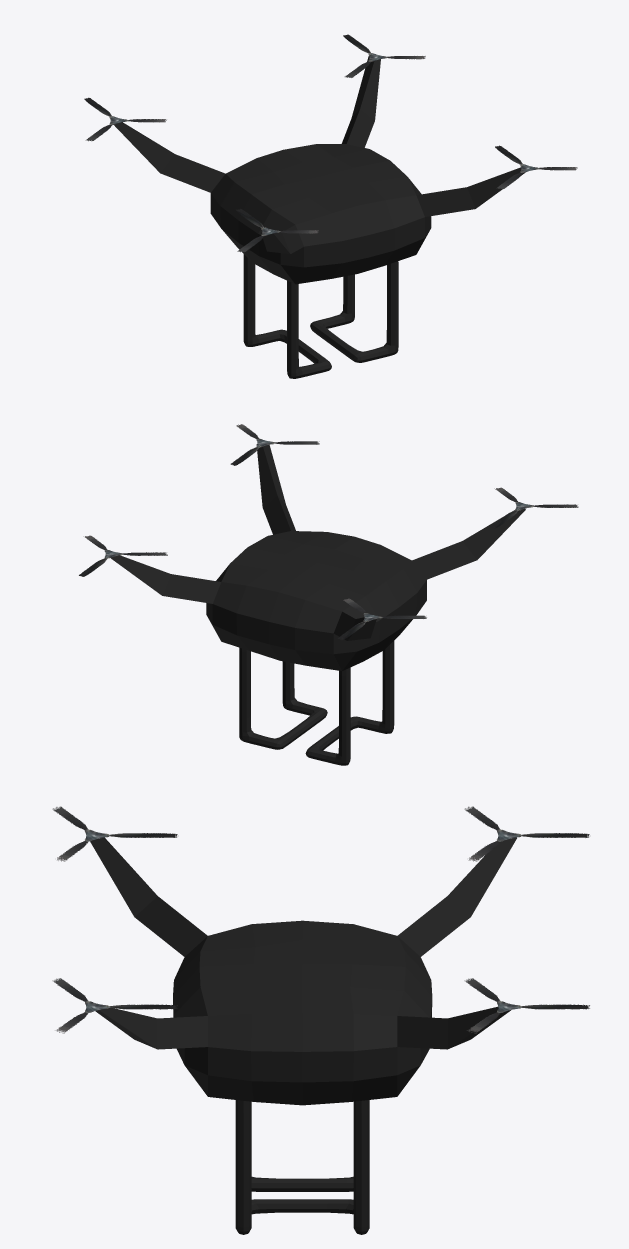
The model's file is Drone.fbx.
3 renders of one model, top to bottom at view 1: azimuth 30°, elevation 25°; view 2: azimuth 150°, elevation 25°; view 3: azimuth 270°, elevation 25°, orthographic. The views are drawn at different scales.
Visible parts, largest first — view 1: Cube, Куб, Куб.001, images (5), images (5).002, images (5).001, images (5).003; view 2: Cube, Куб, Куб.001, images (5).001, images (5).003, images (5).002, images (5); view 3: Cube, Куб.001, Куб, images (5).001, images (5).003, images (5).002, images (5).
Boxes of the visible parts, box(x1,y1,x2,y2) form: Cube: box(114, 56, 525, 284); Куб: box(243, 254, 331, 378); Куб.001: box(310, 261, 398, 362); images (5): box(236, 208, 318, 252); images (5).002: box(84, 97, 166, 141); images (5).001: box(495, 145, 577, 189); images (5).003: box(343, 34, 425, 77); Cube: box(111, 444, 525, 670); Куб: box(305, 641, 394, 765); Куб.001: box(239, 647, 327, 749); images (5).001: box(230, 424, 319, 465); images (5).003: box(79, 535, 167, 576); images (5).002: box(337, 598, 426, 640); images (5): box(489, 487, 578, 528); Cube: box(90, 837, 516, 1105); Куб.001: box(235, 1100, 369, 1234); Куб: box(251, 1102, 353, 1191); images (5).001: box(52, 978, 177, 1033); images (5).003: box(464, 978, 589, 1033); images (5).002: box(464, 806, 589, 861); images (5): box(52, 806, 177, 861).
Size of the model in its own units: 504 by 262 by 509.
